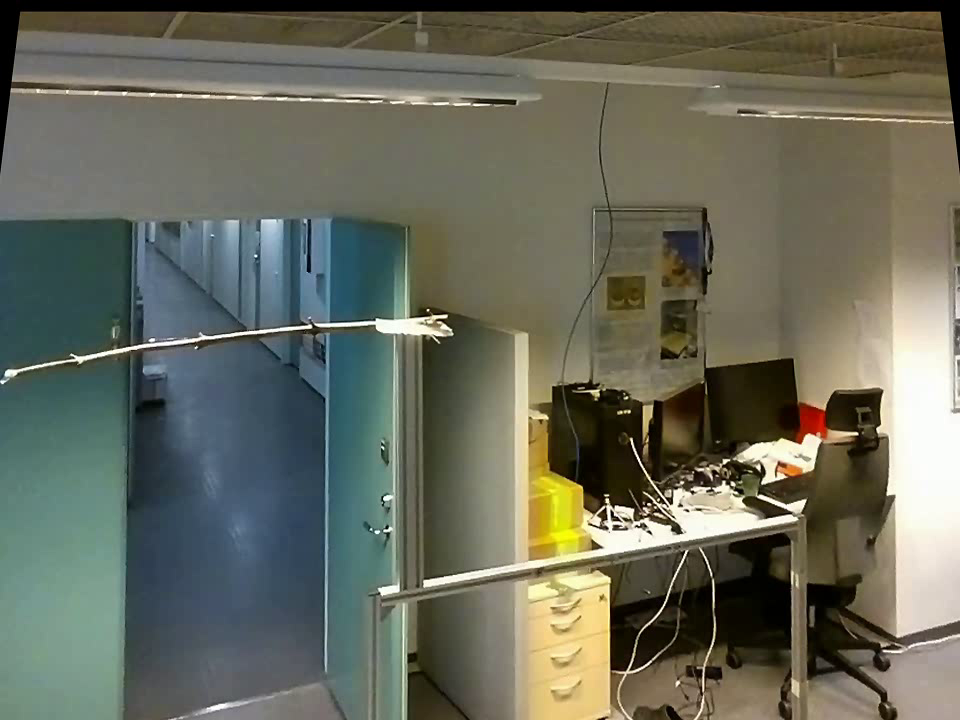aluminum_frame: (380, 510, 808, 610), (386, 335, 432, 590), (782, 504, 817, 714), (365, 590, 383, 716)
branch: (24, 306, 376, 386)
